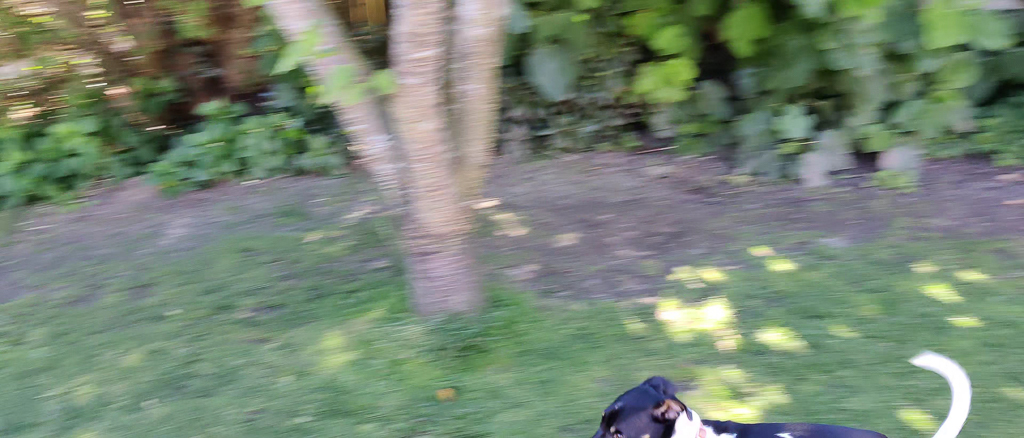Dog: (577, 330, 989, 438)
